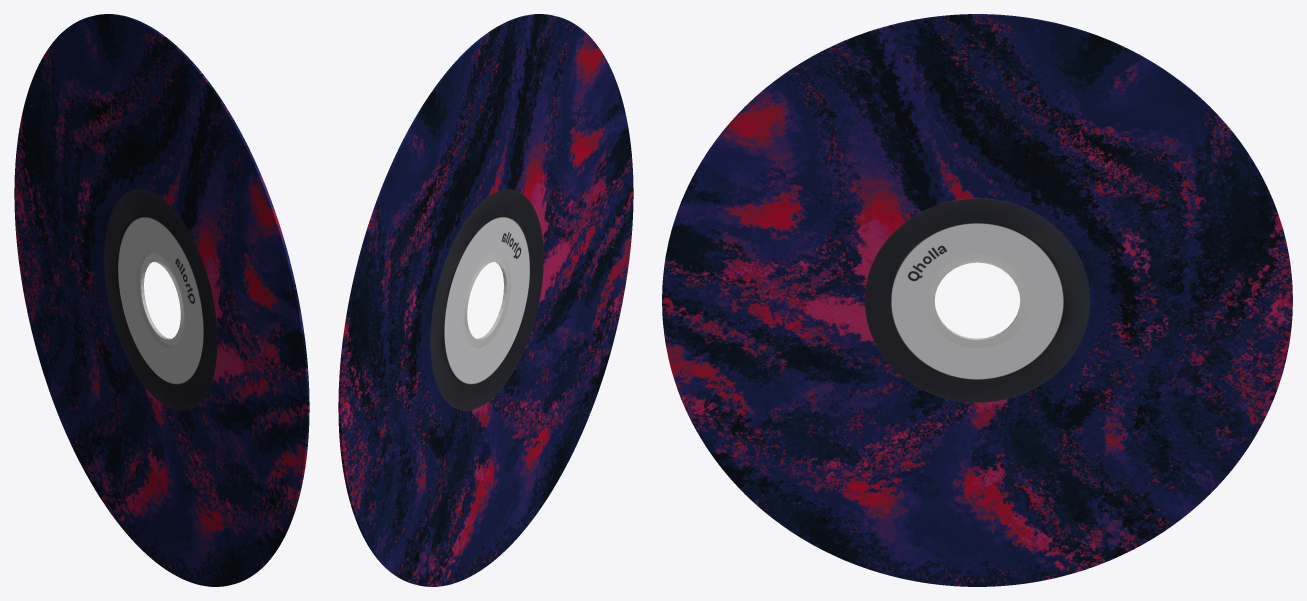
File: CD_Qholla.glb
3 views of the same model, side by side, from view 1: azimuth 30°, elevation 25°; view 2: azimuth 150°, elevation 25°; view 3: azimuth 270°, elevation 25° (orthographic). The views are drawn at different scales.
Parts seen in each view (by area): view 1: CD; view 2: CD; view 3: CD.
Boxes of the visible parts, <box> form: CD: <box>14,14,309,586</box>; CD: <box>338,14,633,586</box>; CD: <box>662,14,1292,586</box>.
Size of the model in its own units: 0.0111 by 1.87 by 1.87.
2 materials, 2 textured.
